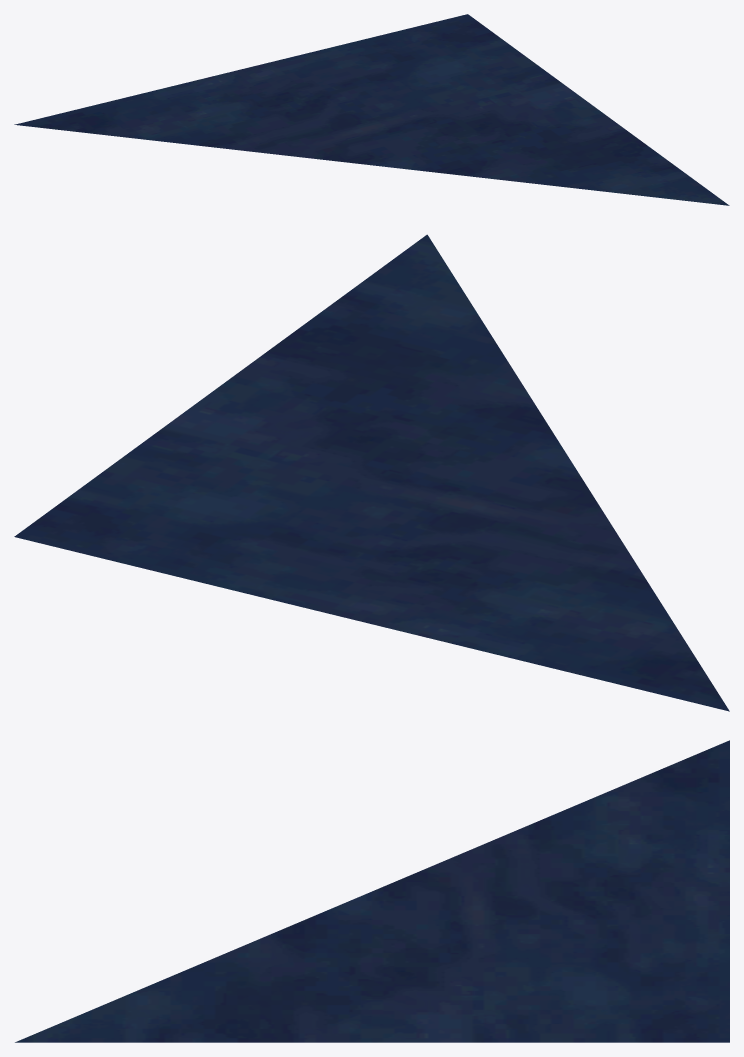
The model's file is palace_water_diagonal_03.fbx.
The picture shows the model from 3 angles, top to bottom: view 1: azimuth 30°, elevation 25°; view 2: azimuth 150°, elevation 25°; view 3: azimuth 270°, elevation 25°; orthographic projection. The views are drawn at different scales.
Parts seen in each view (by area): view 1: palace_water_mat; view 2: palace_water_mat; view 3: palace_water_mat.
Boxes of the visible parts, x1,y1,x2,y2 form: palace_water_mat: (14, 14, 729, 205); palace_water_mat: (14, 234, 729, 711); palace_water_mat: (15, 740, 729, 1042).
Size of the model in its own units: 4 by 6.95e-07 by 4.
